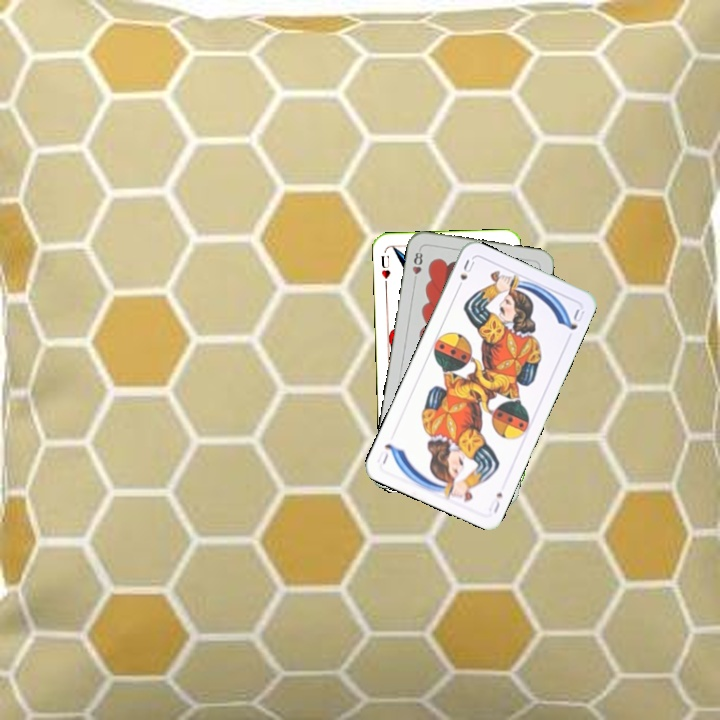H8: (408, 245, 425, 286)
HU: (377, 251, 393, 288)
SU: (452, 255, 477, 293), (484, 488, 505, 516)
